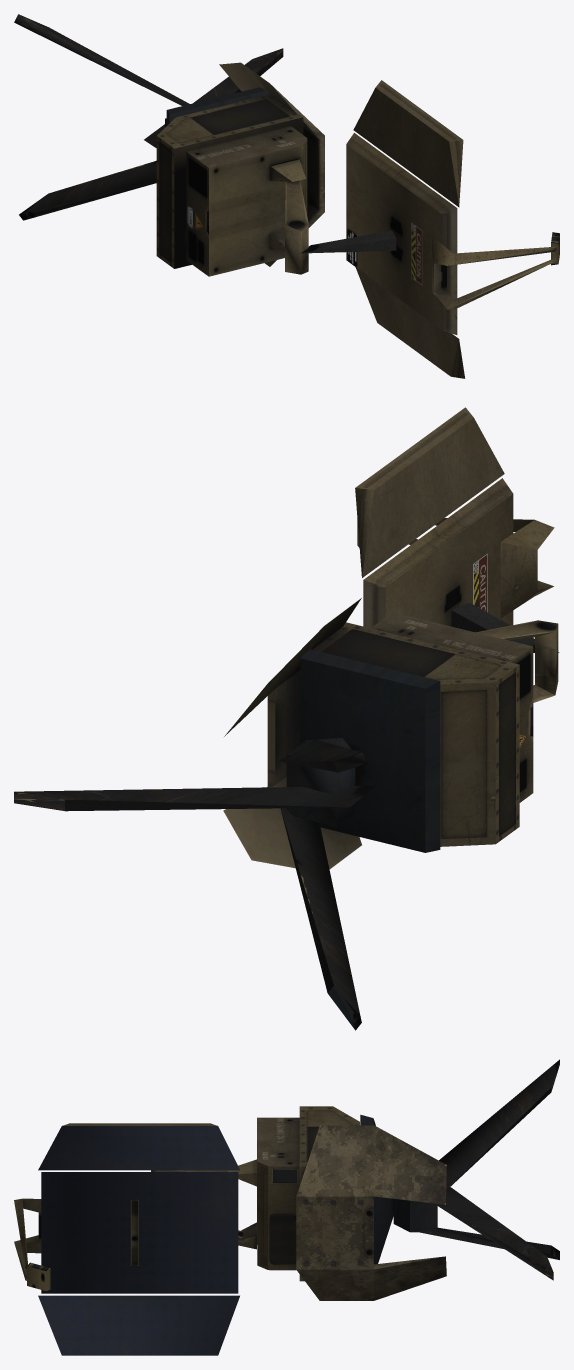
Rendered from t6_wpn_turret_ads_world_LOD2.obj.
The picture shows the model from 3 angles, top to bottom: view 1: azimuth 30°, elevation 25°; view 2: azimuth 150°, elevation 25°; view 3: azimuth 270°, elevation 25°; orthographic projection. The views are drawn at different scales.
Visible parts, largest first — view 1: mtl_t6_wpn_turret_ads; view 2: mtl_t6_wpn_turret_ads; view 3: mtl_t6_wpn_turret_ads.
Boxes of the visible parts, left/top/right/bottom form: mtl_t6_wpn_turret_ads: left=14, top=14, right=559, bottom=378; mtl_t6_wpn_turret_ads: left=14, top=407, right=559, bottom=1030; mtl_t6_wpn_turret_ads: left=14, top=1059, right=559, bottom=1355.
Bounding box in the file's own units: 98.97 × 81.78 × 177.
